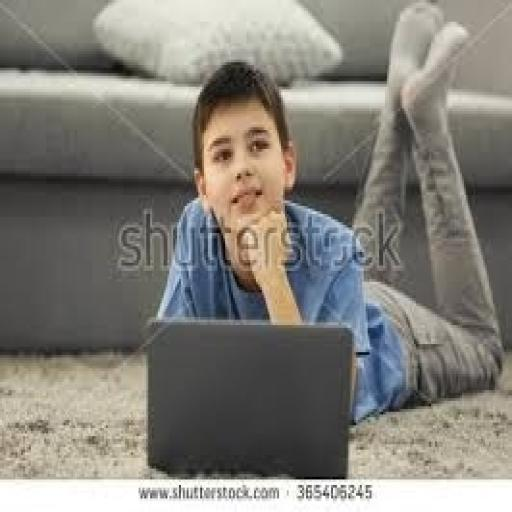using_laptop: (139, 314, 354, 480)
